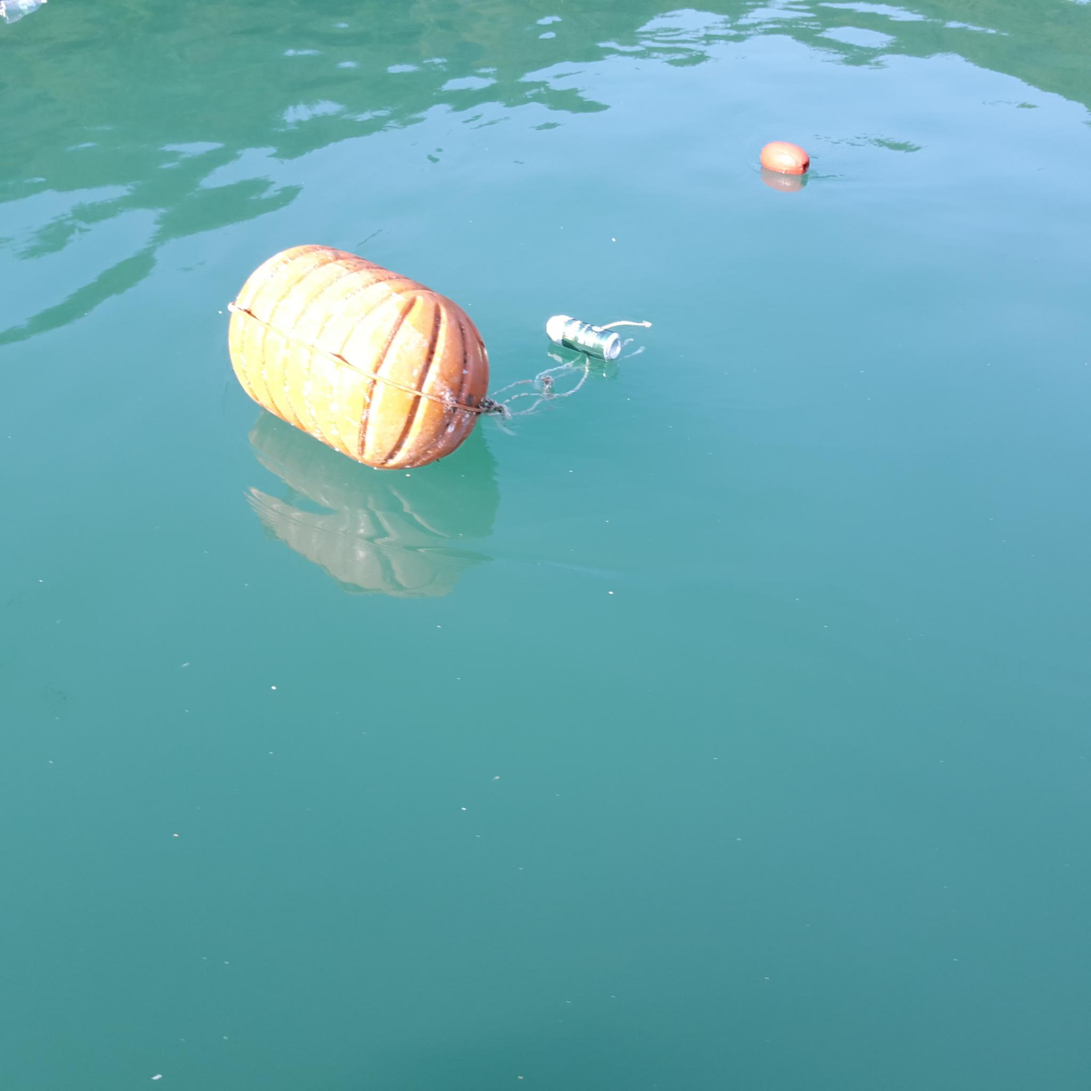sampah_terapung: (229, 245, 491, 470), (486, 321, 652, 438), (547, 315, 622, 363), (761, 142, 810, 175)
